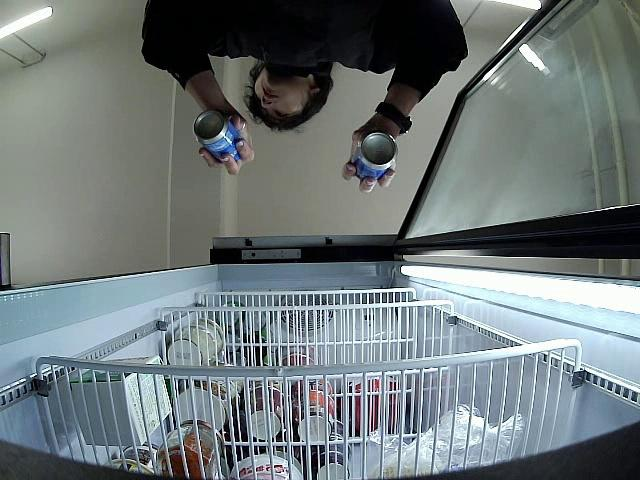00_hand: (343, 119, 397, 194), (198, 114, 257, 177)
15_letsbe: (193, 111, 242, 162), (352, 129, 397, 181)
